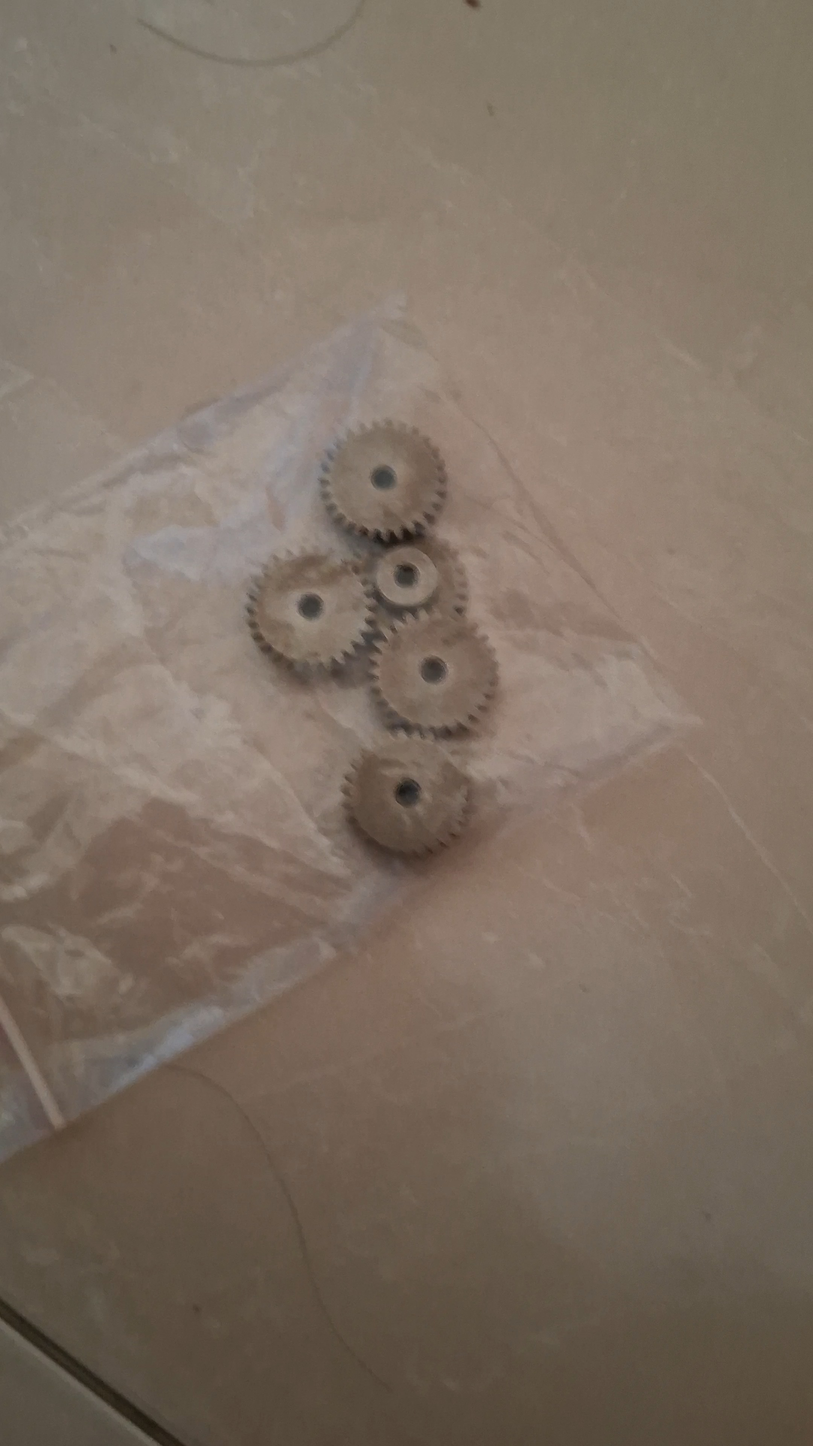spur gear: (372, 614, 496, 736), (344, 735, 469, 855), (246, 552, 375, 668), (321, 422, 446, 541), (372, 536, 466, 615)
